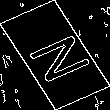N_NE: (17, 26, 93, 84)
